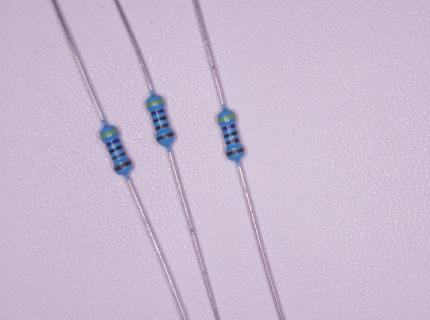Black band: (108, 144, 124, 155), (153, 115, 167, 124), (224, 131, 238, 138)
Brown band: (113, 160, 133, 172), (156, 132, 175, 142), (226, 147, 245, 157), (112, 152, 126, 161), (155, 123, 170, 131), (226, 138, 240, 145)
Violet band: (105, 138, 120, 148), (150, 108, 165, 117), (222, 123, 236, 131)
Yellow band: (100, 128, 119, 139), (146, 99, 164, 107), (218, 114, 236, 122)
